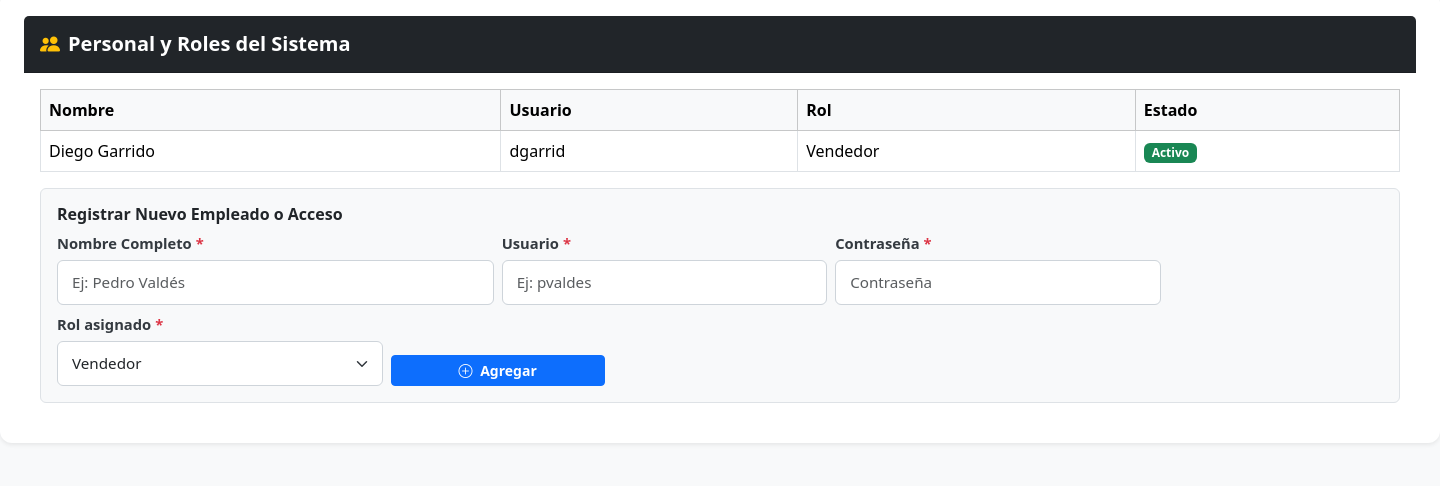
Scenario: FormularioNuevoUsuario › muestra los errores al enviar el formulario vacío
What coordinates should you click on to do the following:
click the button "Agregar"
I would click on:
 (498, 371)
Its box is left=390, top=355, right=605, bottom=386.
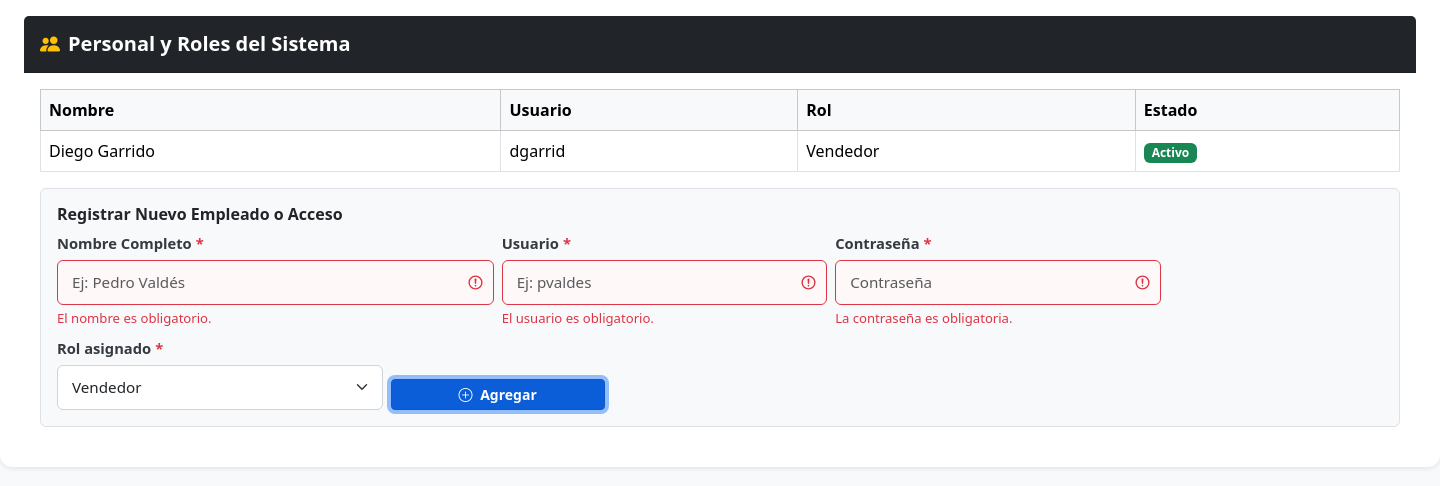
Expected: the text "El nombre es obligatorio." is shown, left=57, top=309, right=212, bottom=327
Expected: the text "El usuario es obligatorio." is shown, left=502, top=309, right=654, bottom=327
Expected: the text "La contraseña es obligatoria." is shown, left=835, top=309, right=1012, bottom=327
